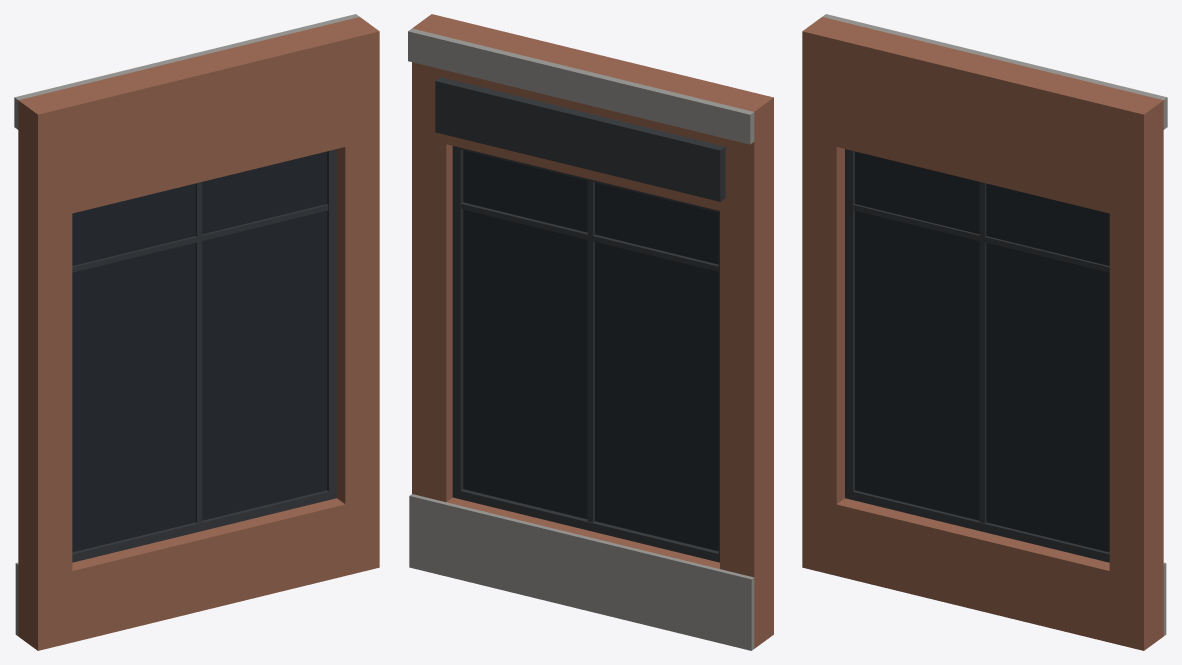
The model's file is SM_VB_FacB_GroundShop.fbx.
3 renders of one model, left to right at view 1: azimuth 30°, elevation 25°; view 2: azimuth 150°, elevation 25°; view 3: azimuth 330°, elevation 25°, orthographic.
Visible parts, largest first — view 1: SM_VB_FacB_GroundShop; view 2: SM_VB_FacB_GroundShop; view 3: SM_VB_FacB_GroundShop.
Part boxes in pixels (x1,y1,x2,y2): SM_VB_FacB_GroundShop: [14, 14, 379, 650]; SM_VB_FacB_GroundShop: [408, 14, 773, 650]; SM_VB_FacB_GroundShop: [802, 14, 1167, 650].
Size of the model in its own units: 3 by 4.5 by 0.38.
